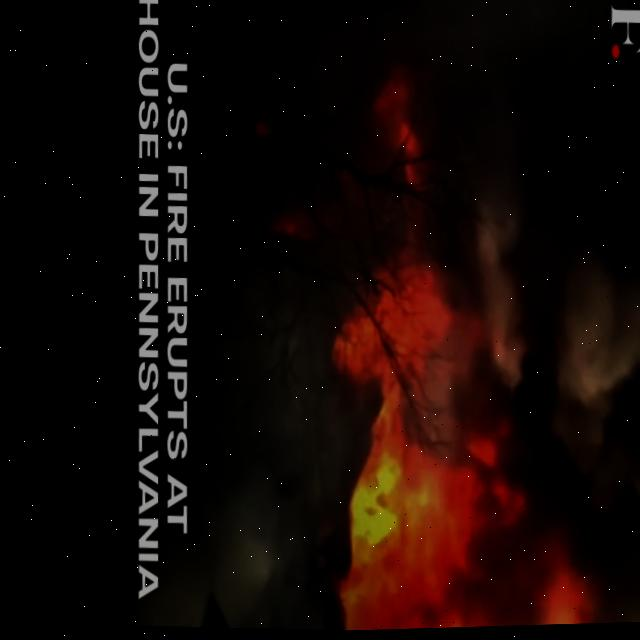Fire: (321, 271, 598, 633)
Smoke: (412, 53, 640, 417), (549, 82, 640, 627)
